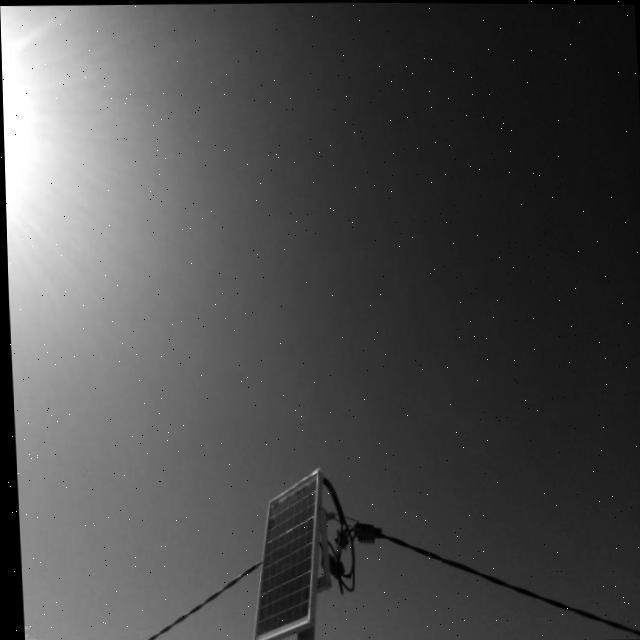Normal Solar Panel: (241, 469, 322, 640)
